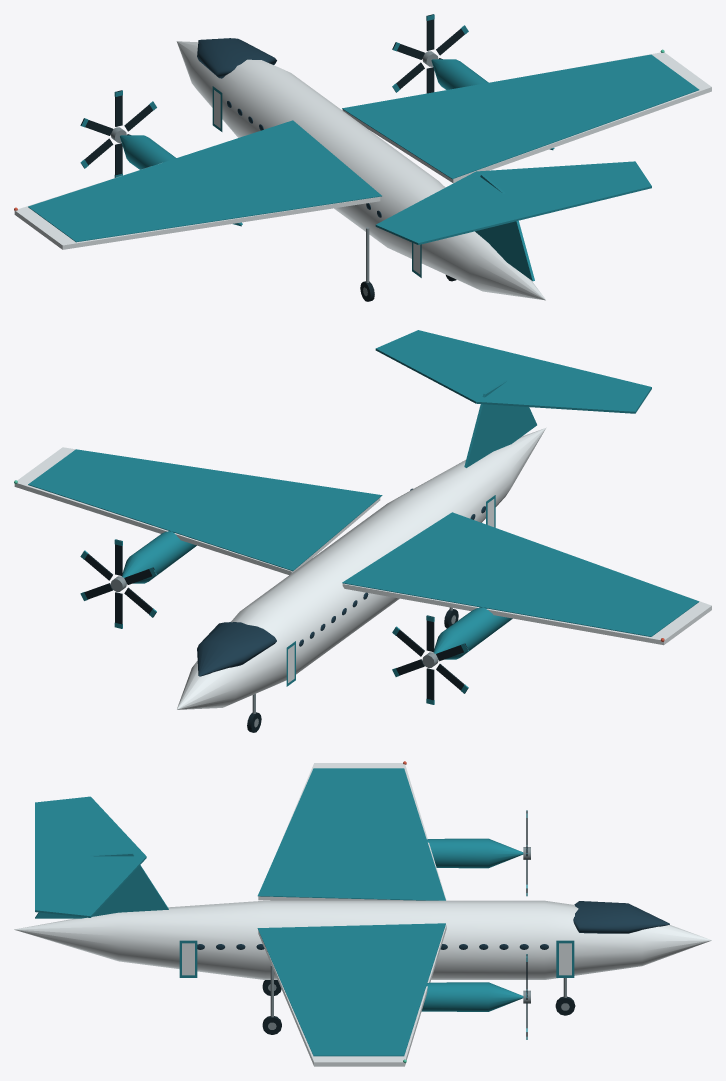
The picture shows the model from 3 angles, top to bottom: view 1: azimuth 30°, elevation 25°; view 2: azimuth 150°, elevation 25°; view 3: azimuth 270°, elevation 25°; orthographic projection. The views are drawn at different scales.
Visible parts, largest first — view 1: 海燕 P-72 original model, propeller-port, propeller-starboard, landing-gear; view 2: 海燕 P-72 original model, propeller-port, propeller-starboard; view 3: 海燕 P-72 original model, landing-gear.
Boxes of the visible parts, x1,y1,x2,y2 form: 海燕 P-72 original model: [14, 38, 711, 300]; propeller-port: [80, 90, 156, 177]; propeller-starboard: [392, 14, 468, 93]; landing-gear: [360, 227, 456, 301]; 海燕 P-72 original model: [14, 330, 711, 709]; propeller-port: [392, 615, 468, 704]; propeller-starboard: [80, 539, 156, 628]; 海燕 P-72 original model: [14, 761, 711, 1066]; landing-gear: [262, 965, 575, 1034].
Bounding box in the file's own units: 27.64 × 6.92 × 27.2.
